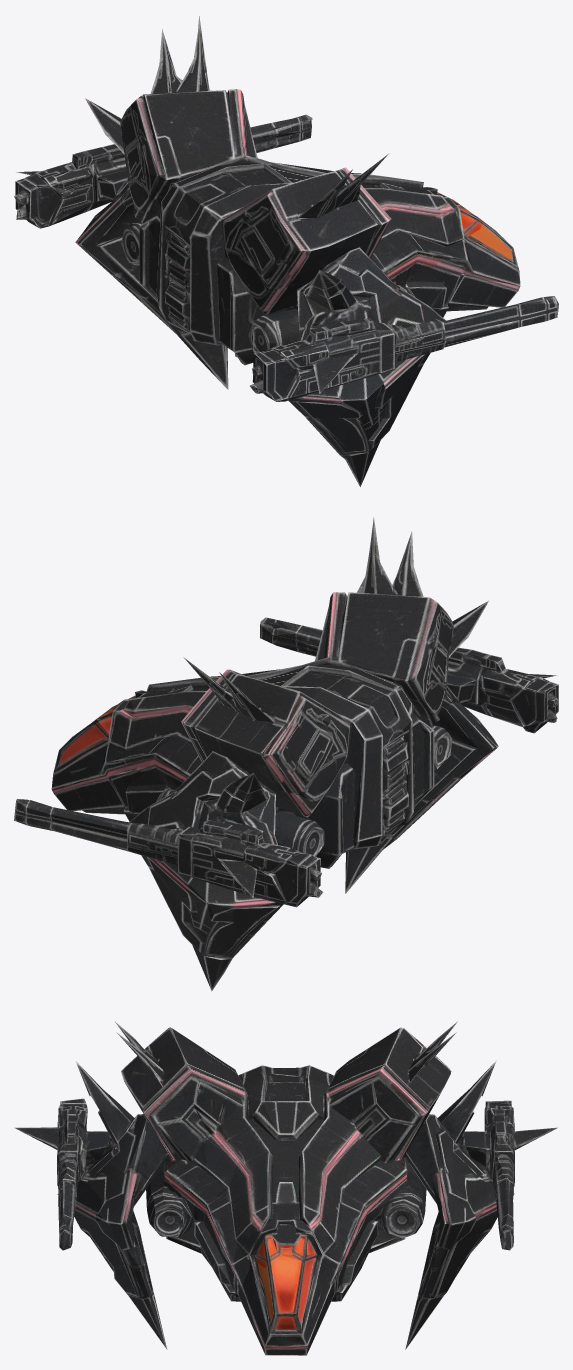
The model's file is Boss8-v2.glb.
The picture shows the model from 3 angles, top to bottom: view 1: azimuth 30°, elevation 25°; view 2: azimuth 150°, elevation 25°; view 3: azimuth 270°, elevation 25°; orthographic projection. The views are drawn at different scales.
Visible parts, largest first — view 1: output_unwrapped; view 2: output_unwrapped; view 3: output_unwrapped.
Boxes of the visible parts, <box> form: output_unwrapped: <box>14,16,558,486</box>; output_unwrapped: <box>14,517,558,991</box>; output_unwrapped: <box>14,1021,558,1355</box>.
Size of the model in its own units: 1.36 by 1.22 by 1.89.
1 material, 1 textured.
